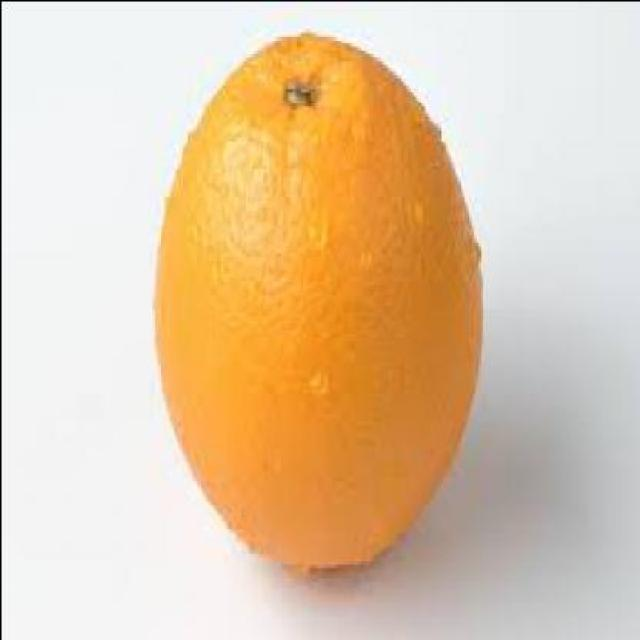BIODEGRADABLE: (151, 25, 480, 566)
